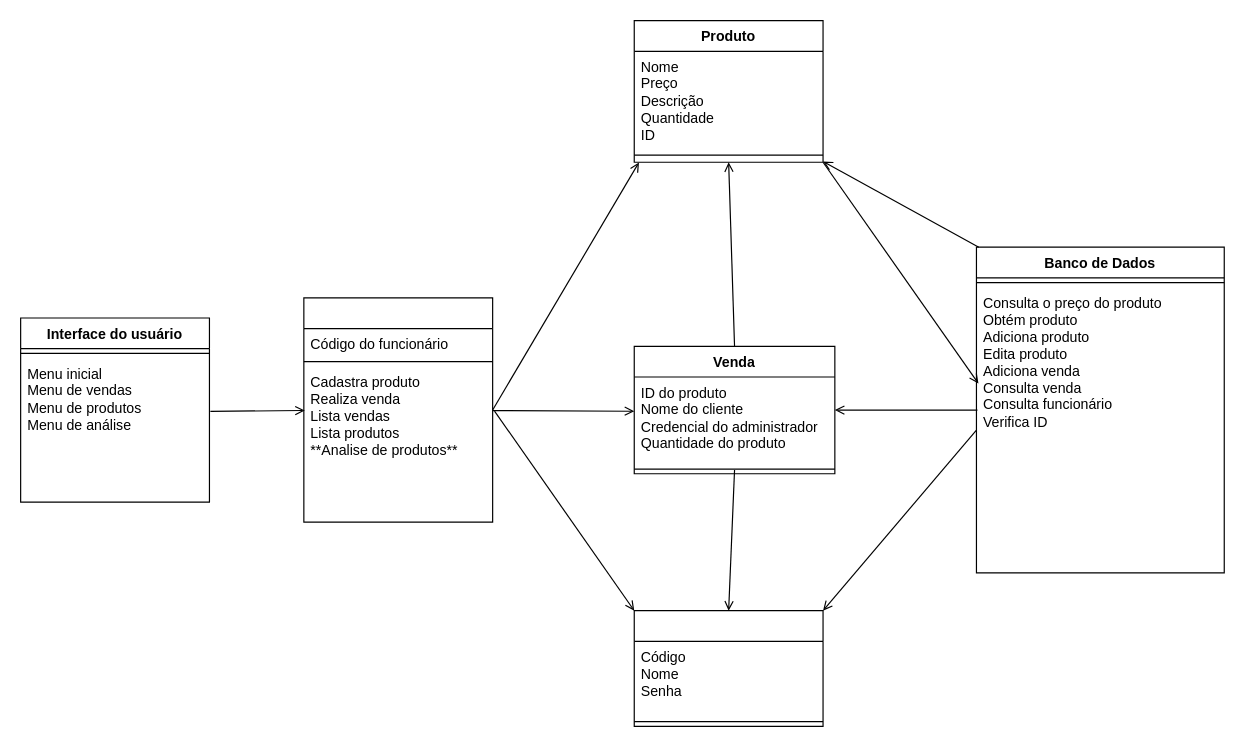
Image size: 1245x747. Some labels were removed from this diagram. The box of each missing label's shape, as (x1, y1, x2, y2) in pixels:
Administrador: (633, 609, 823, 726)
Controlador de vendas: (303, 297, 493, 522)
